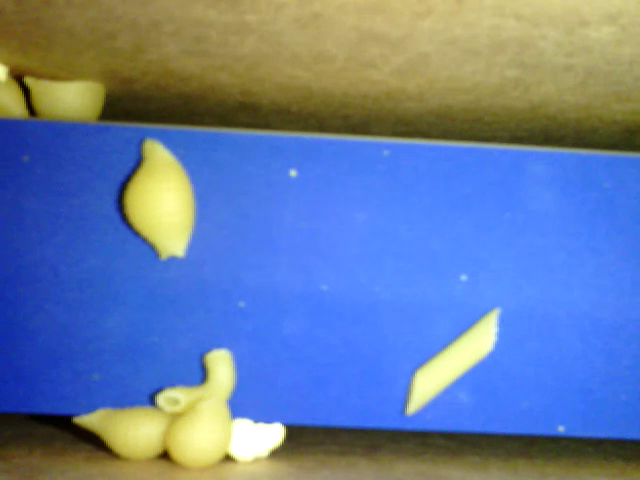elbow: (156, 347, 235, 412)
penne: (405, 305, 501, 419)
shell: (109, 138, 199, 269), (70, 406, 177, 463), (162, 395, 234, 470), (24, 74, 115, 125)
